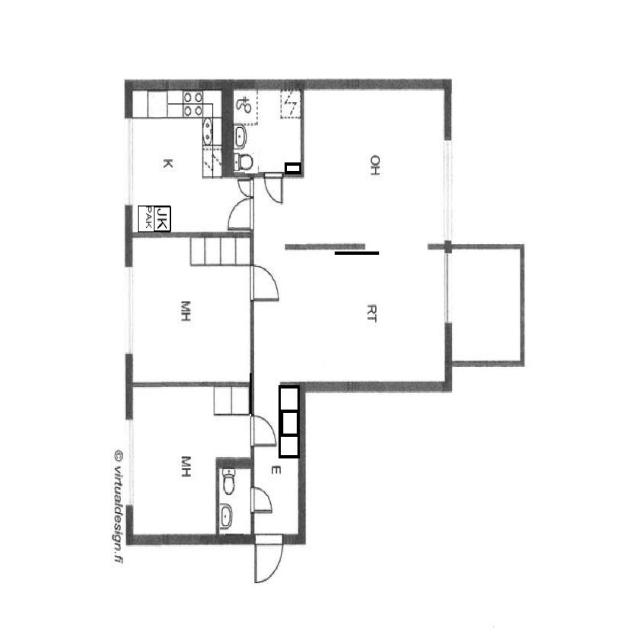door: (251, 533, 289, 585), (247, 263, 280, 301), (255, 173, 293, 203), (224, 194, 254, 228), (248, 416, 278, 448), (251, 487, 275, 513), (228, 178, 264, 195)
window: (441, 139, 452, 238), (124, 265, 136, 354), (124, 114, 134, 204), (125, 420, 134, 504), (442, 250, 452, 322)
zone: (252, 240, 448, 383), (301, 80, 448, 244), (126, 382, 253, 538), (129, 235, 250, 382), (129, 82, 228, 234), (448, 245, 523, 364), (250, 382, 302, 536), (230, 83, 304, 173), (217, 459, 251, 538)
